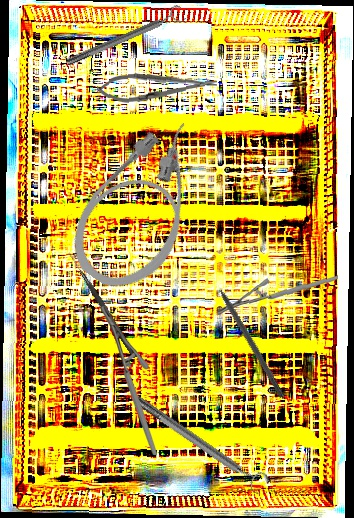Cannula: (53, 103, 237, 307)
Fixation Ring: (130, 388, 272, 498), (63, 3, 187, 71)
Hook Surgical: (209, 273, 287, 399), (65, 251, 139, 359)
Needle Holder: (100, 306, 157, 455), (216, 268, 339, 323), (96, 68, 218, 106)
